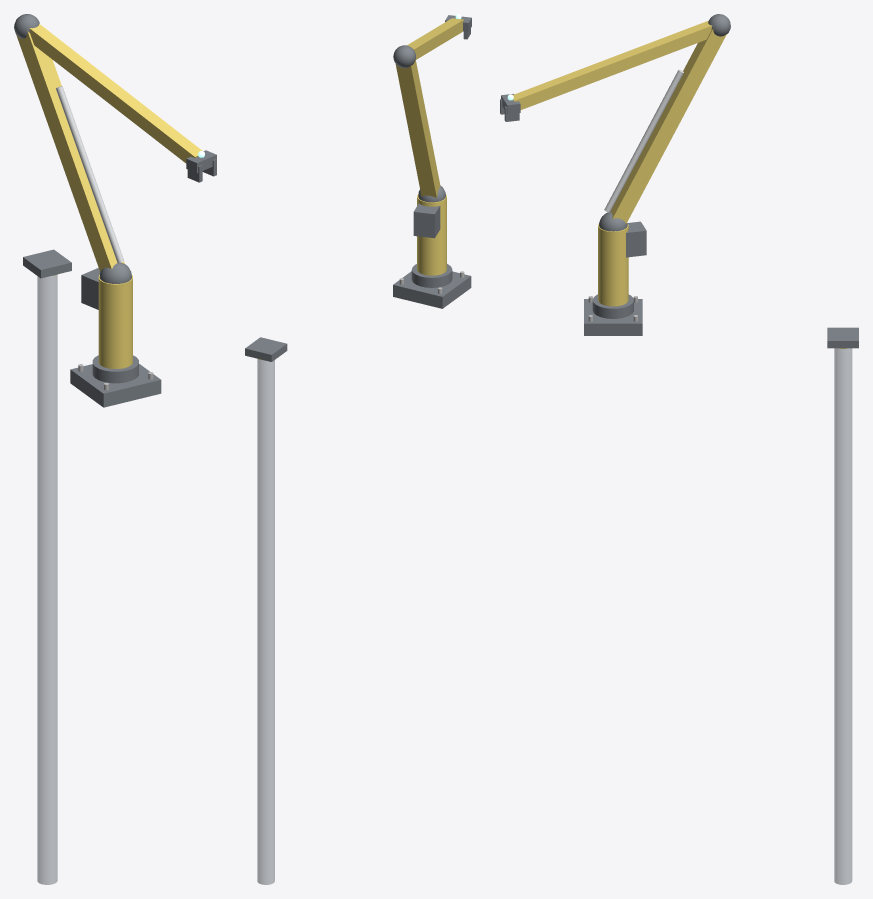
File: pipearm.glb
The picture shows the model from 3 angles, left to right: view 1: azimuth 30°, elevation 25°; view 2: azimuth 150°, elevation 25°; view 3: azimuth 270°, elevation 25°; orthographic projection. The views are drawn at different scales.
Size of the model in its own units: 2.65 by 20.25 by 7.97.
